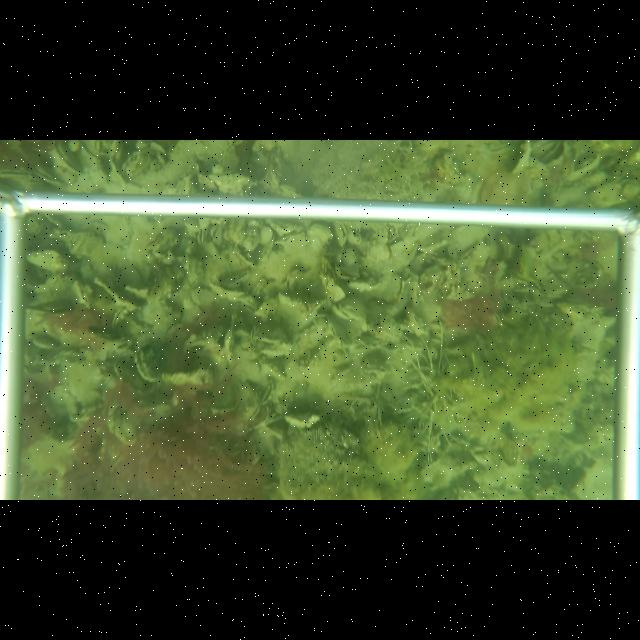Oyster-Closed: (404, 307, 427, 339), (509, 144, 532, 175), (323, 275, 346, 304), (223, 324, 237, 367), (259, 376, 276, 406), (111, 307, 127, 329), (344, 248, 357, 267), (355, 233, 364, 247)
Oyster-Open: (49, 142, 84, 177), (134, 343, 162, 383), (567, 154, 602, 179), (540, 142, 572, 168), (33, 166, 66, 186), (332, 221, 349, 246), (0, 167, 31, 177), (387, 235, 404, 251), (197, 229, 205, 246)
